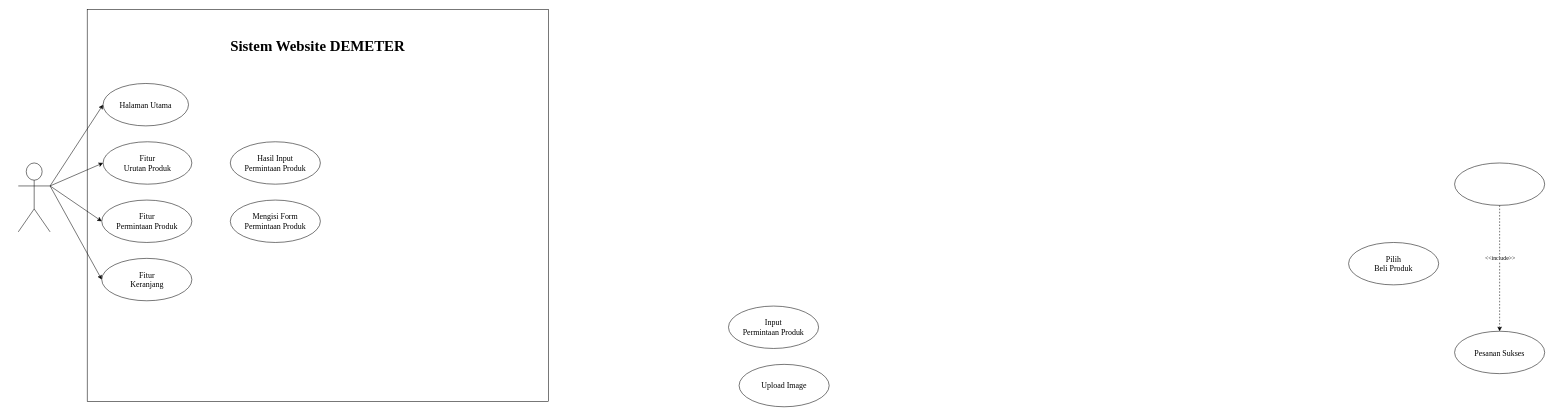
This 1554x416 diagram has some shape labels left out. Each missing label, with the centre of its shape:
Bayar: the point at 1499,183
User (Konsumen): the point at 34,197
